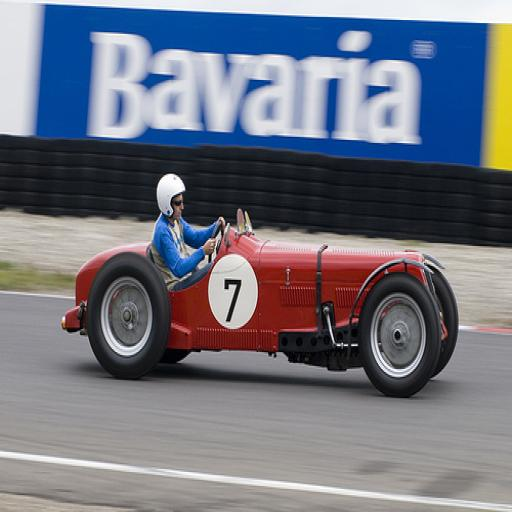person: (151, 172, 226, 299)
vehicle: (62, 208, 460, 401)
